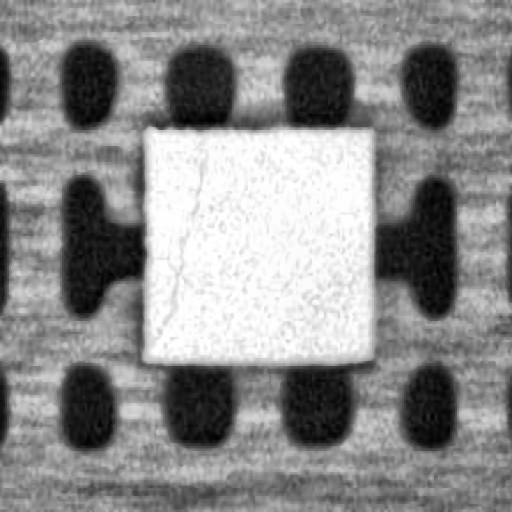DIE_CRACK: (149, 143, 202, 348)
